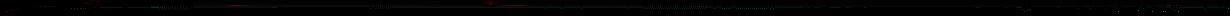Blue cone: (503, 5, 528, 6), (227, 5, 249, 6), (70, 8, 87, 9)
Yellow cone: (484, 2, 497, 6)
